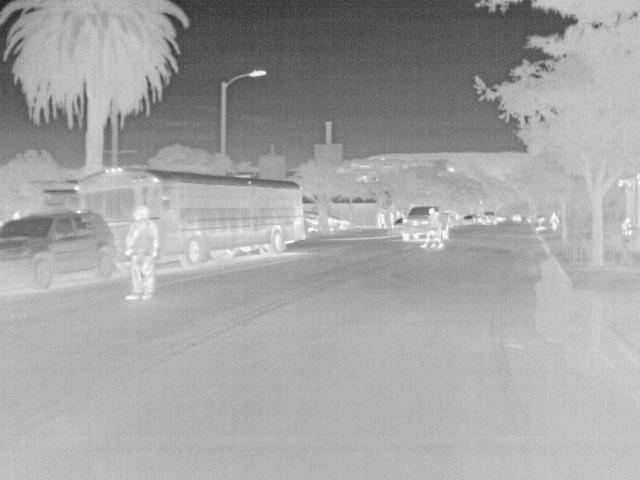car: (2, 212, 118, 290), (400, 205, 438, 243), (329, 214, 352, 230), (389, 218, 405, 236), (479, 212, 498, 227), (460, 215, 478, 227)
person: (121, 204, 159, 299), (420, 207, 447, 248), (620, 214, 637, 235), (549, 209, 561, 233), (377, 212, 389, 230)
